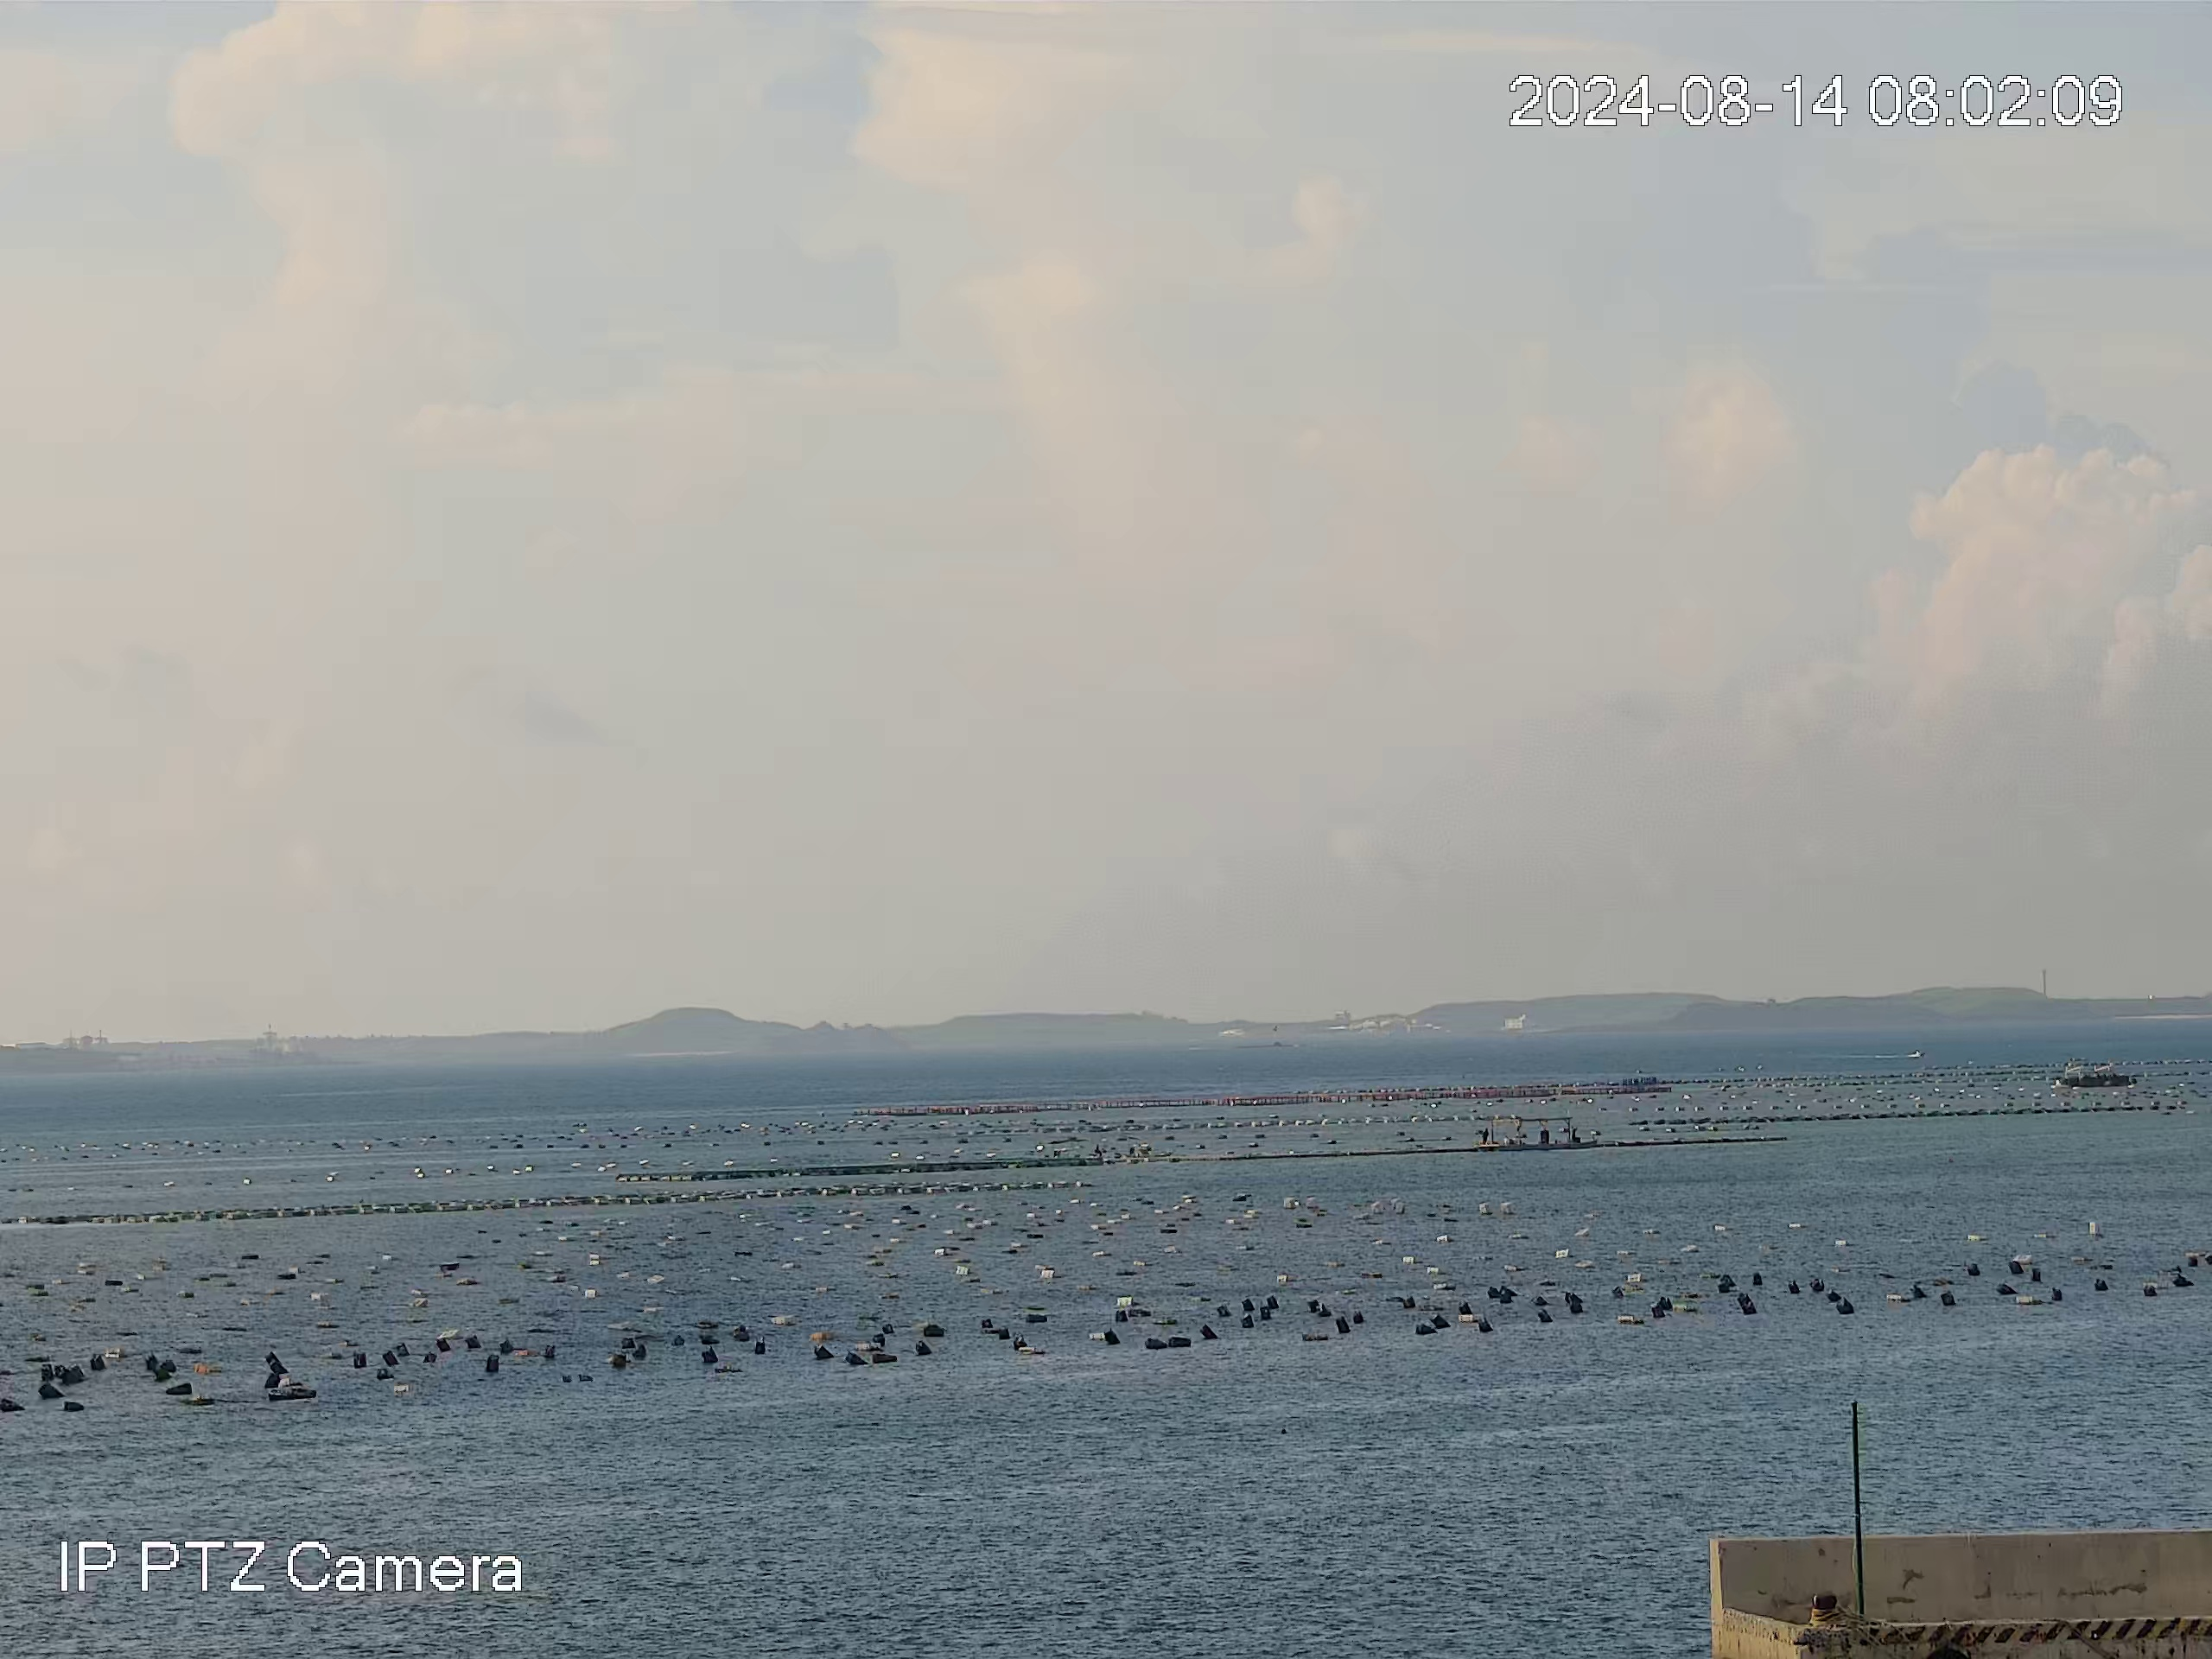boat: (1474, 1107, 1615, 1154), (2055, 1061, 2142, 1093)
